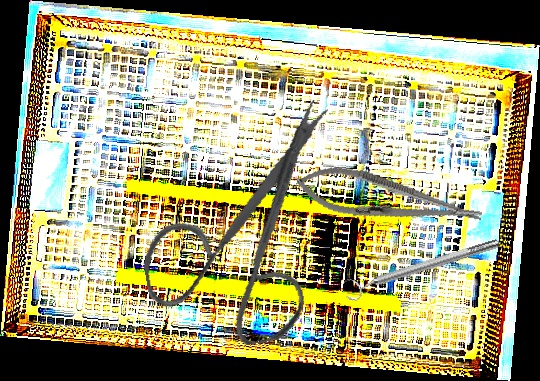Fixation Ring: (340, 231, 504, 304)
Iris Scissors: (120, 97, 366, 361)
Needle Holder: (292, 157, 486, 242)
